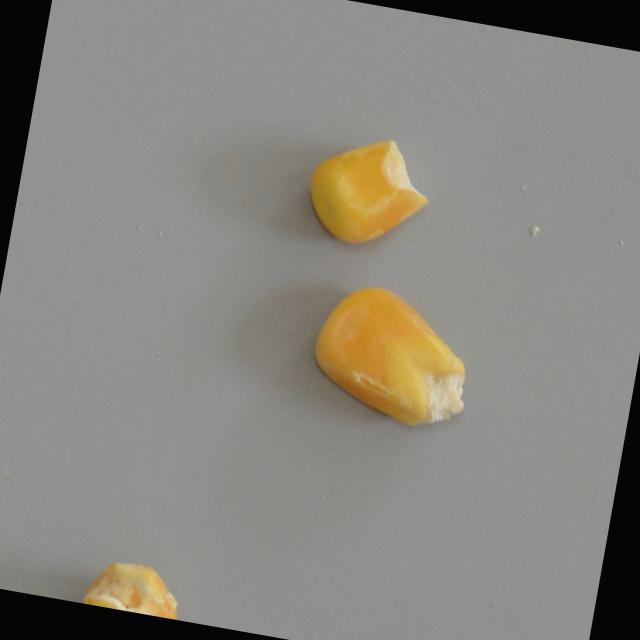no_desgerminado: (301, 275, 482, 437), (298, 120, 439, 257), (77, 548, 191, 621)
